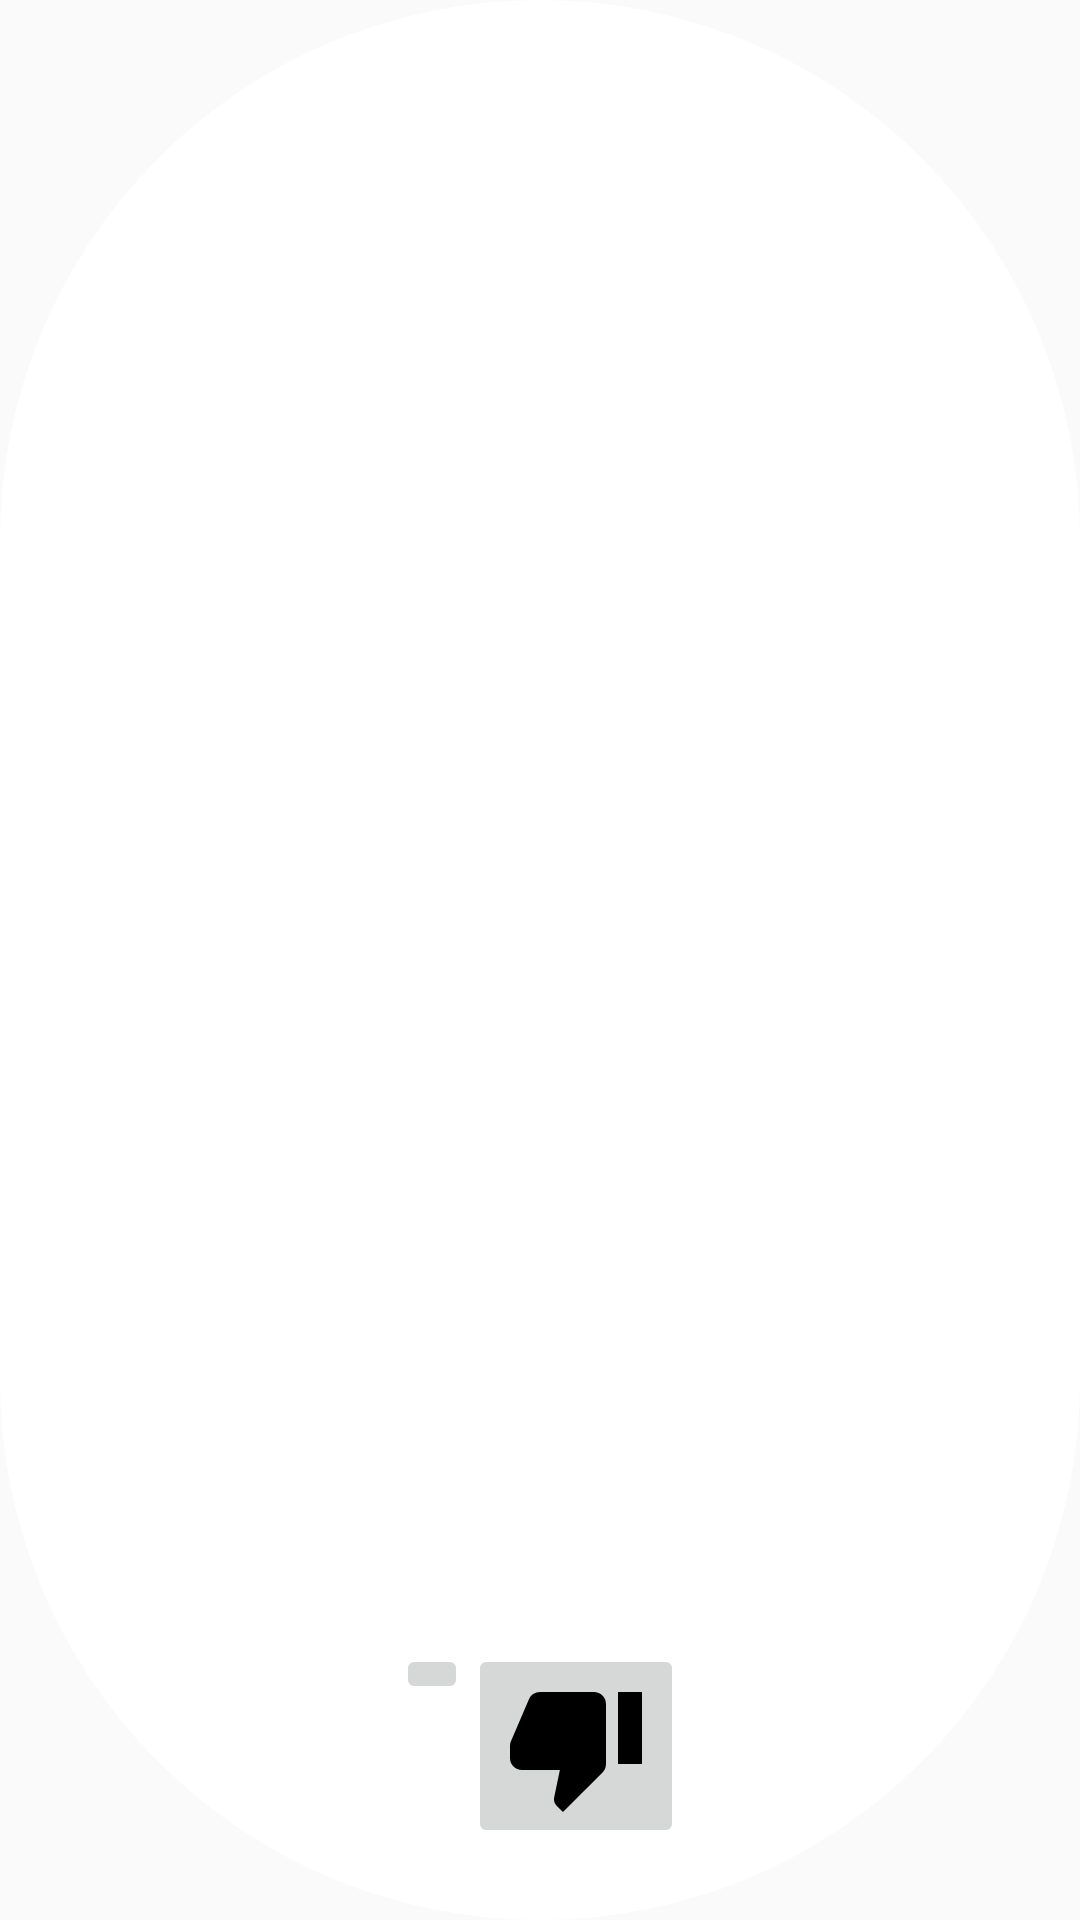

Point at icon controls on the screen. Image size 1080 x 1920, points as (x=x, y=y).
thumb down: (x=576, y=1746)
